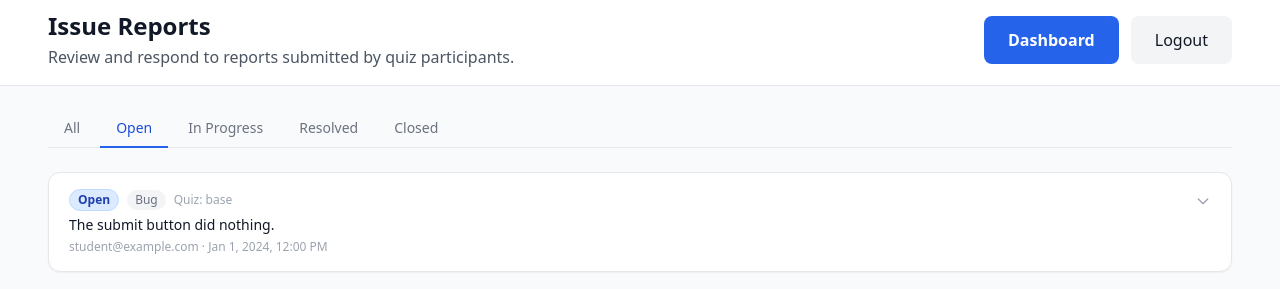
ReportsPanelPage › switches tabs and reloads with the selected status filter
expect the text "The submit button did nothing." is shown: met, box x1=69 y1=215 x2=274 y2=234
Click the button "Resolved" at (329, 129), box x1=283 y1=110 x2=374 y2=148
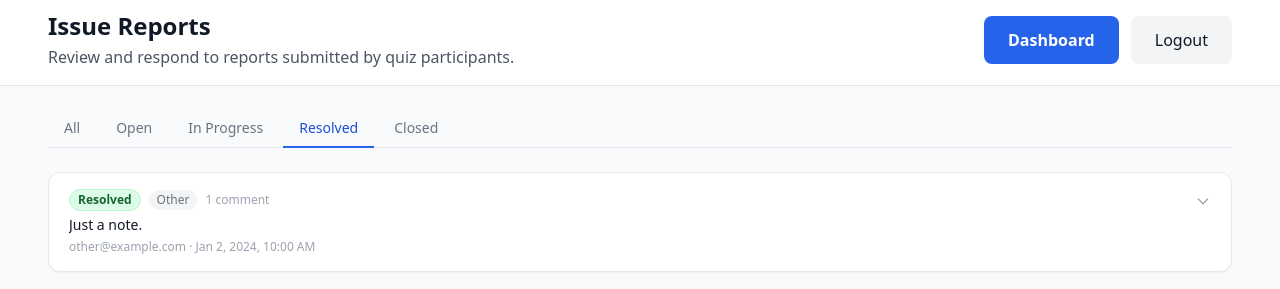
expect the text "Just a note." is shown: met, box x1=69 y1=215 x2=142 y2=234
